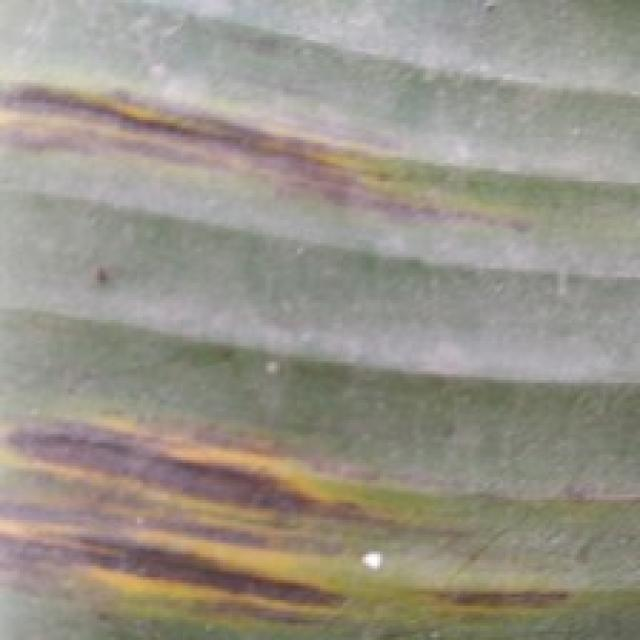Early_leaf_spot: (4, 402, 579, 634), (4, 60, 490, 238)
